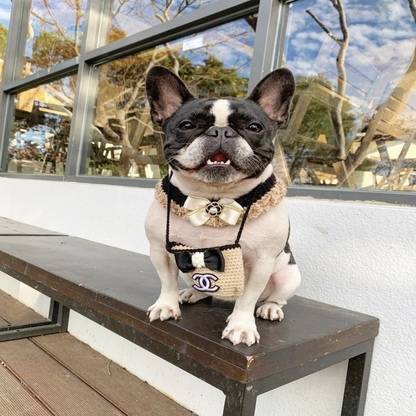bulldog: (143, 62, 307, 349)
